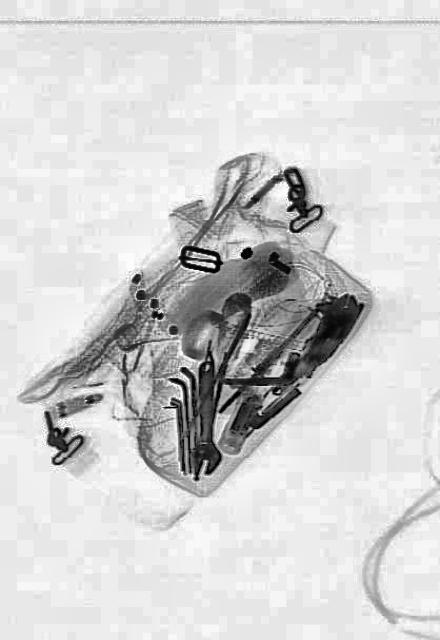Wrench: (186, 359, 224, 473)
